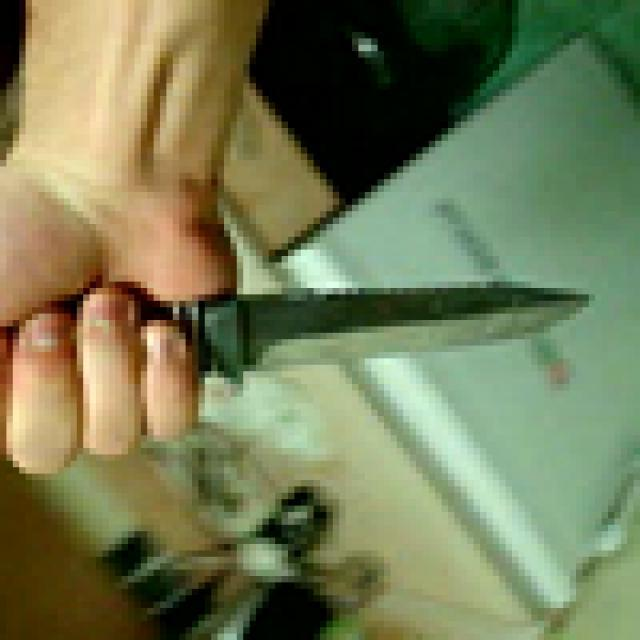Knife: (12, 269, 602, 397)
